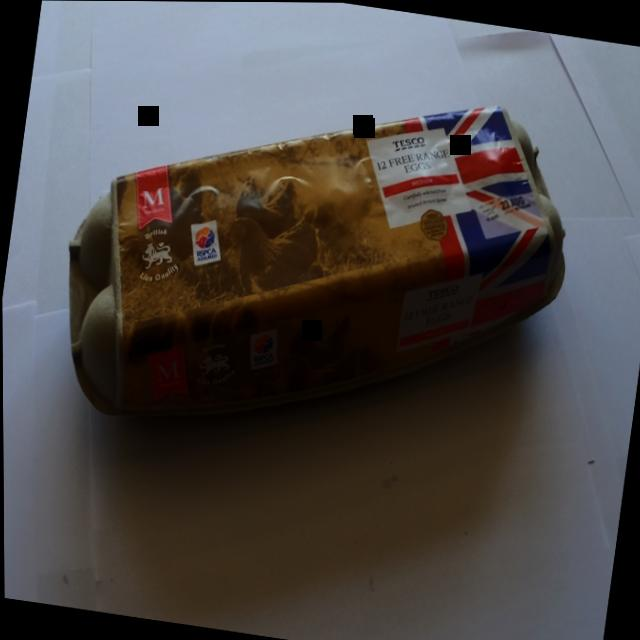Egg: (22, 21, 607, 495)
